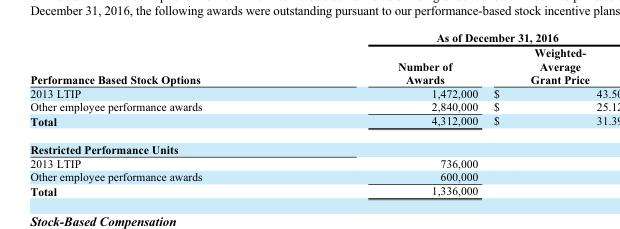table: (29, 29, 588, 198)
table column: (29, 29, 299, 198), (299, 29, 485, 198), (485, 29, 588, 198)
table column header: (29, 29, 588, 85)
table projected row header: (29, 134, 588, 156)
table row: (29, 44, 588, 85), (29, 134, 588, 156), (29, 113, 588, 134), (29, 29, 588, 44), (29, 183, 588, 198), (29, 85, 588, 99), (29, 99, 588, 113), (29, 169, 588, 183), (29, 156, 588, 169)
table spanning cell: (29, 29, 299, 85), (299, 29, 588, 44)
